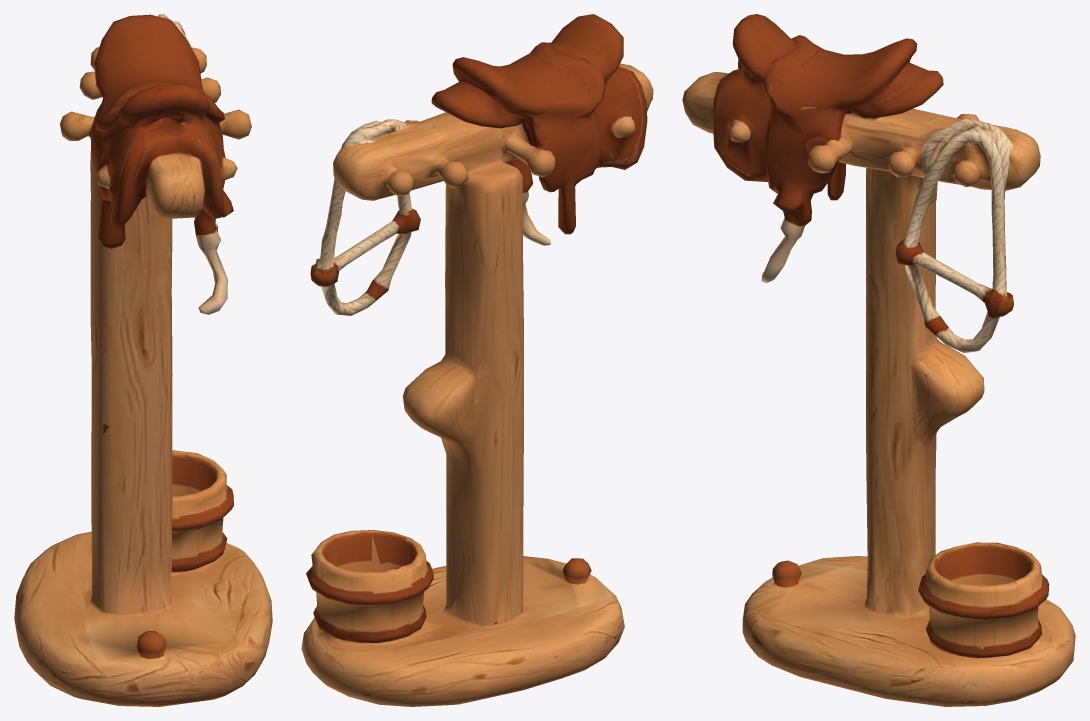
3 renders of one model, left to right at view 1: azimuth 30°, elevation 25°; view 2: azimuth 150°, elevation 25°; view 3: azimuth 270°, elevation 25°, orthographic. The views are drawn at different scales.
Visible parts, largest first — view 1: tack-rack; view 2: tack-rack; view 3: tack-rack.
Boxes of the visible parts, left/top/right/bottom form: tack-rack: left=14, top=14, right=272, bottom=706; tack-rack: left=301, top=14, right=653, bottom=706; tack-rack: left=682, top=14, right=1075, bottom=706.
Size of the model in its own units: 0.6842 by 1.6 by 0.9396.
Materials: 1 (1 with a texture image).
